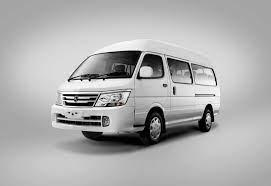van: (54, 36, 221, 144)
